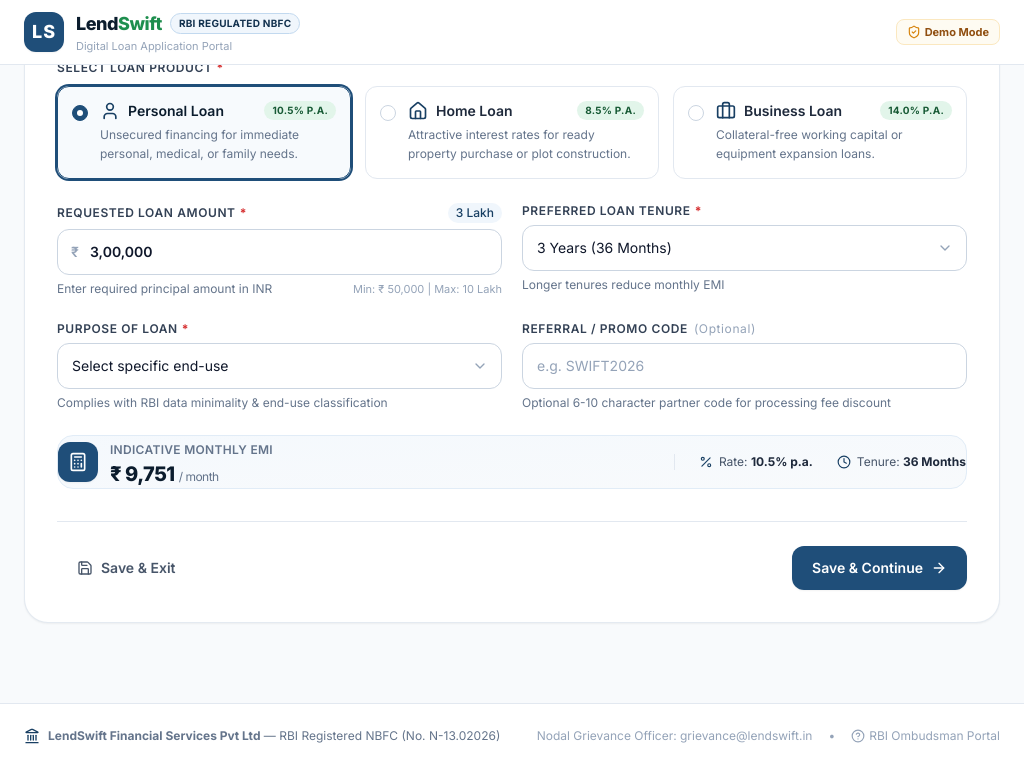
Scenario: LendSwift End-to-End User Journeys and Critical Flows › E1.4 - Step 1 validation displays required field errors when purpose is missing
The image size is (1024, 761).
(page scrolled)
Click Next without selecting loan purpose
Click the button "Save & Continue": (880, 568) [792, 546, 967, 590]
(page scrolled)
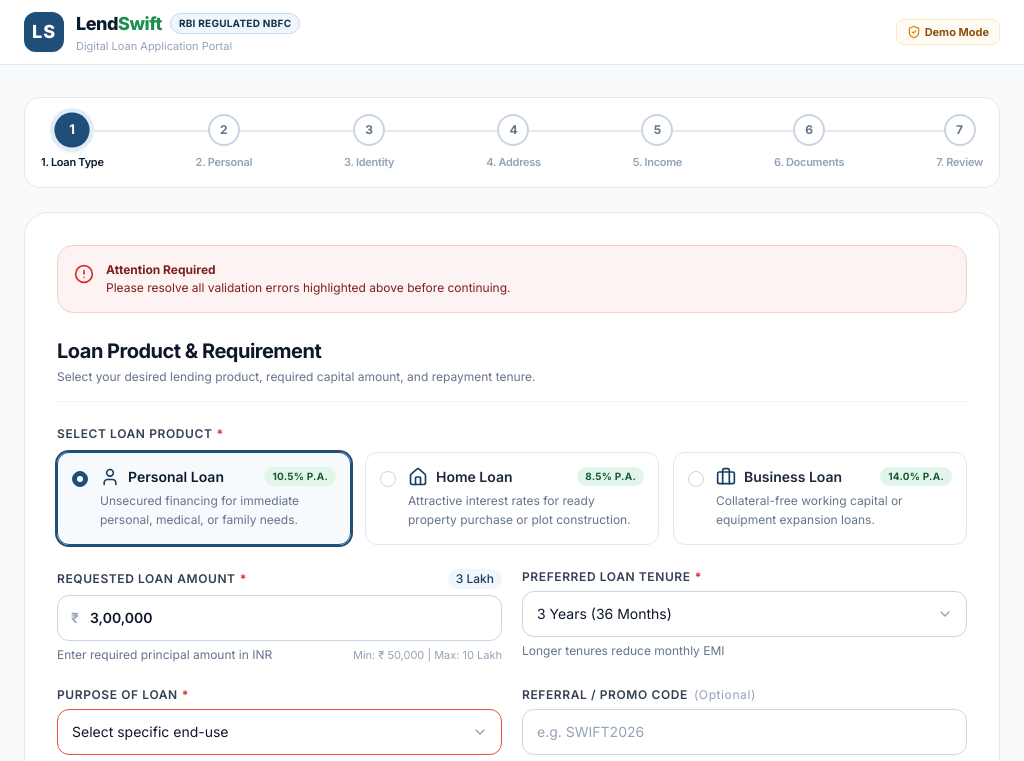
Expected: the text "Please resolve all validation errors" is shown, [106, 280, 510, 294]
